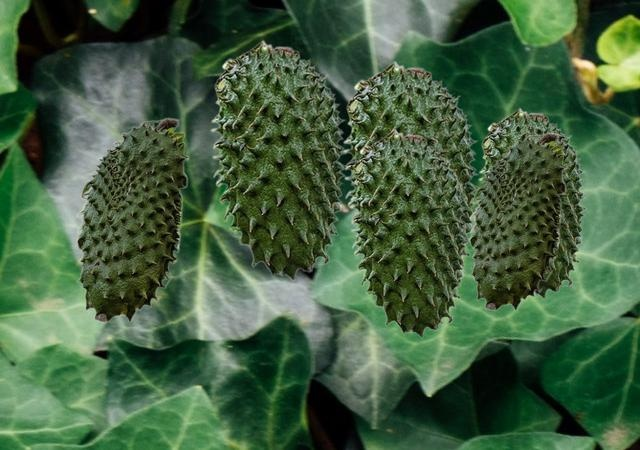guyabano: (210, 39, 347, 280), (342, 60, 479, 283), (349, 128, 468, 337), (75, 117, 188, 322), (478, 107, 586, 298), (468, 132, 566, 310)
